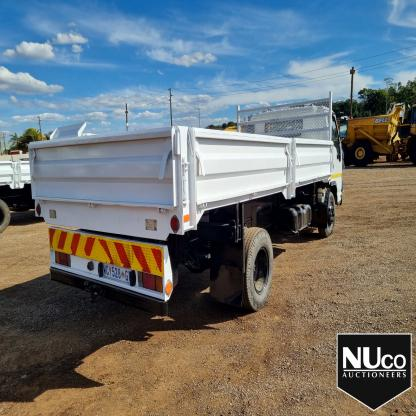dump_truck: (31, 78, 365, 317)
